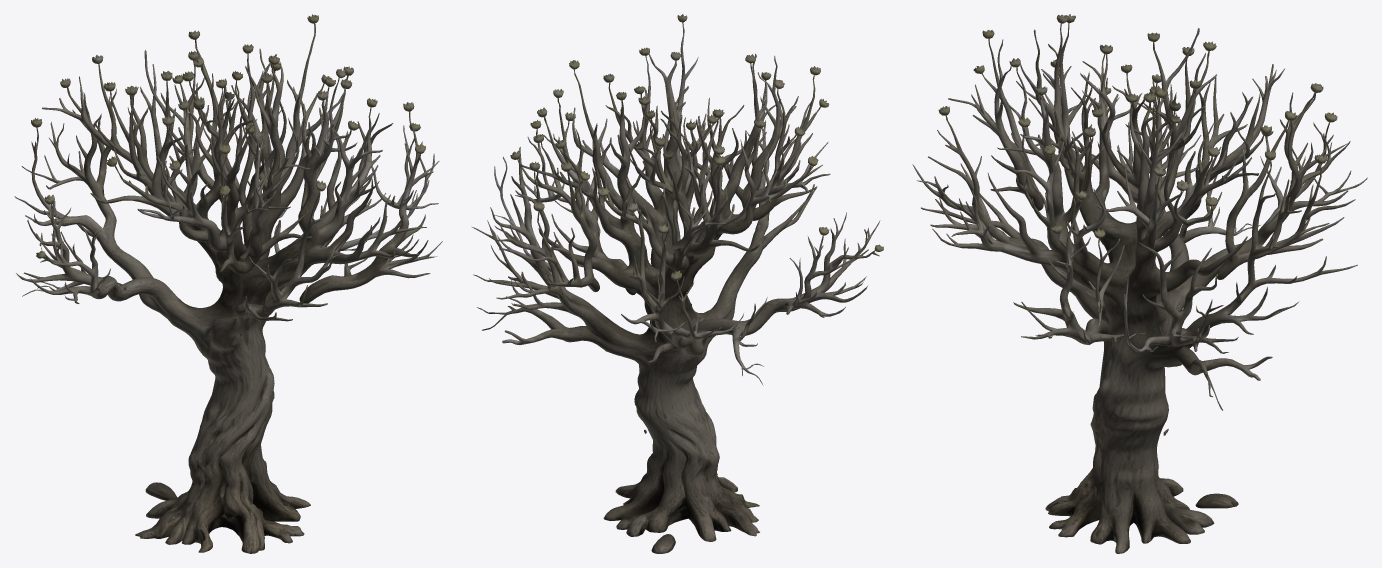
Rendered from pollarded.glb.
3 views of the same model, side by side, from view 1: azimuth 30°, elevation 25°; view 2: azimuth 150°, elevation 25°; view 3: azimuth 270°, elevation 25° (orthographic). The views are drawn at different scales.
Visible parts, largest first — view 1: node_0; view 2: node_0; view 3: node_0.
Boxes of the visible parts, left/top/right/bottom form: node_0: left=14, top=14, right=442, bottom=553; node_0: left=472, top=14, right=883, bottom=553; node_0: left=912, top=14, right=1367, bottom=553.
Bounding box in the file's own units: 0.948 × 1.06 × 0.9021.
Materials: 1 (1 with a texture image).
